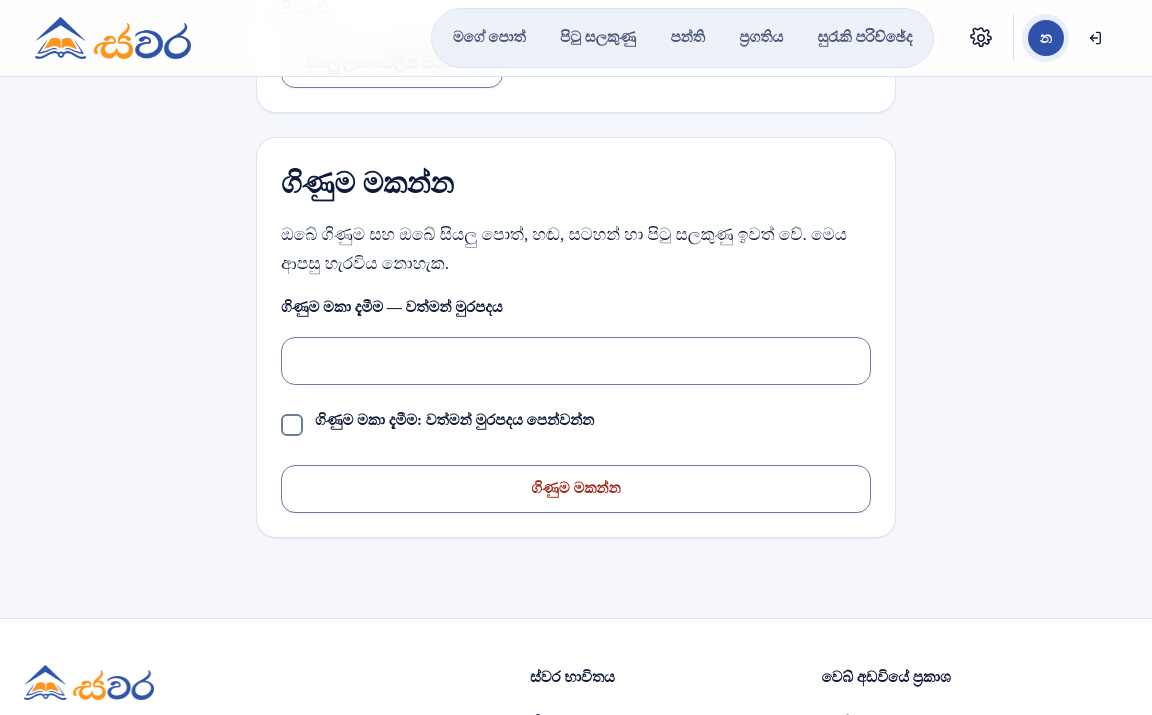
Scenario: deleting the account › with the wrong password deletes nothing and says why
(page scrolled)
In the password field labelled "ගිණුම මකා දැමීම — වත්මන් මුරපදය": (576, 361) [281, 337, 871, 385], type "not-it-at-all"
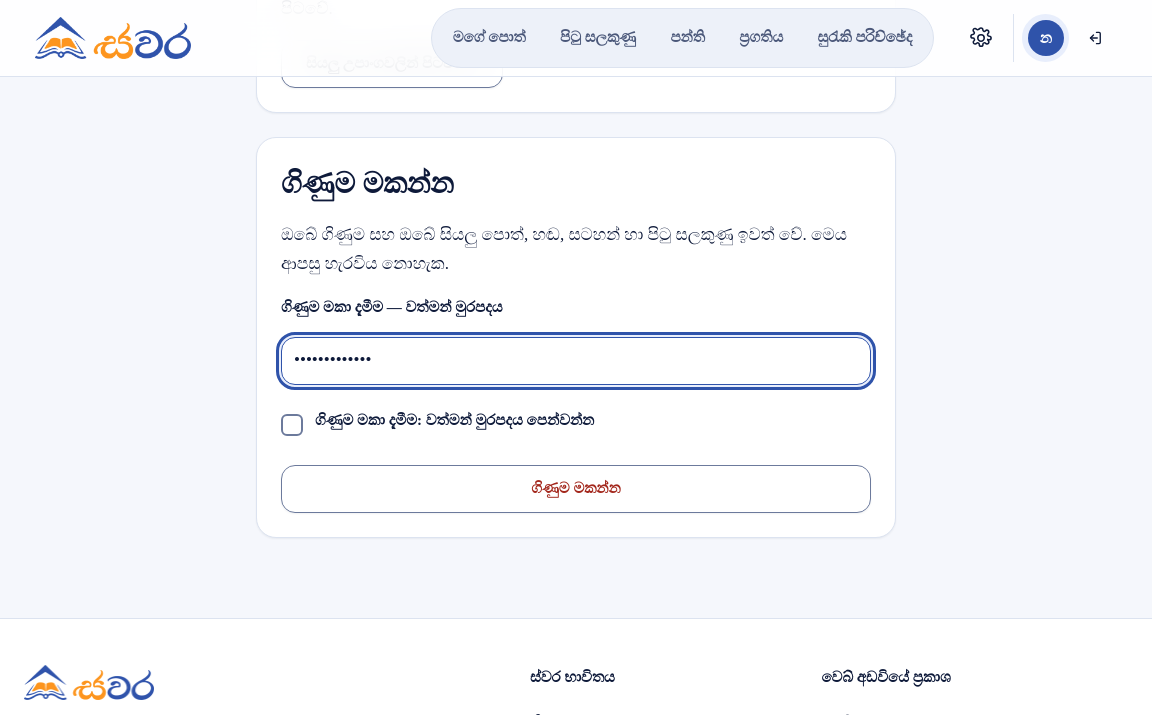
Click the button "ගිණුම මකන්න": (576, 489) [281, 465, 871, 513]
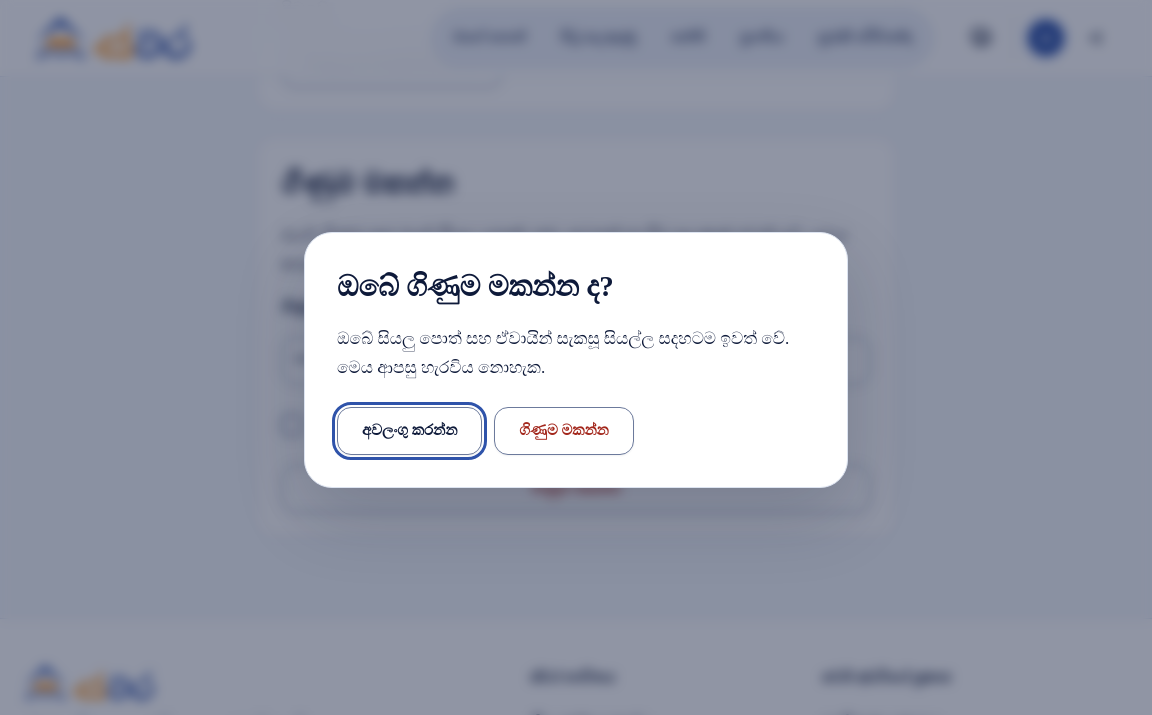
Click the button "ගිණුම මකන්න": (564, 431) [494, 407, 634, 455]
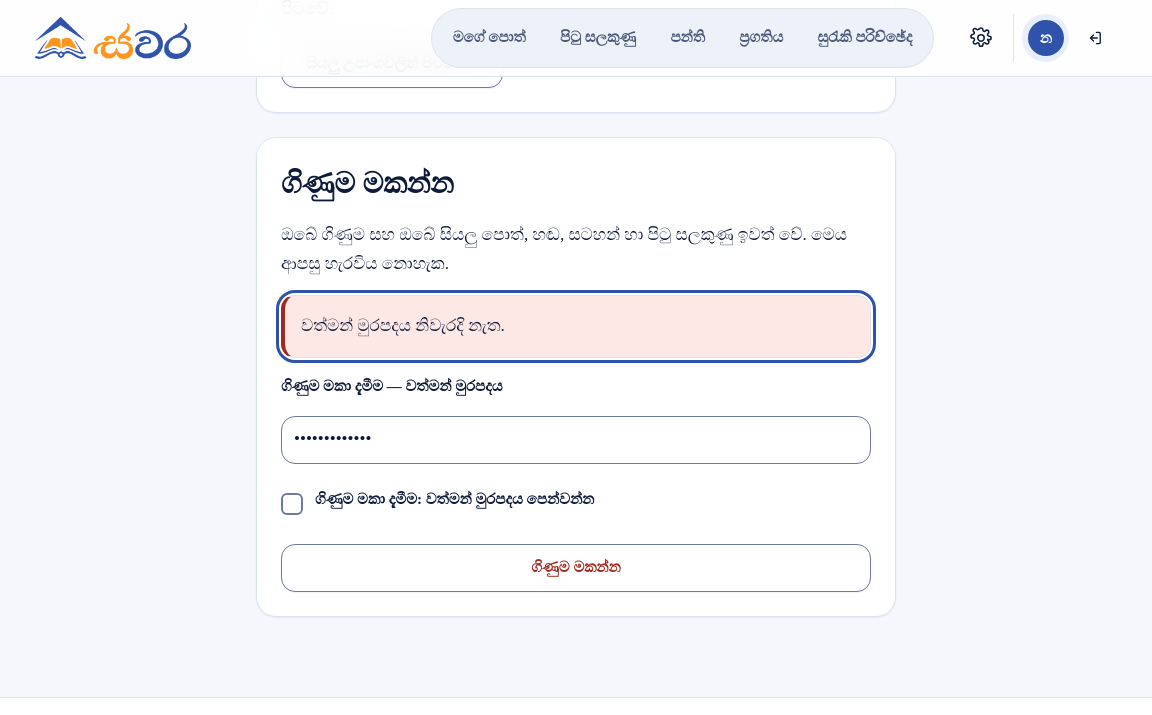
Expected: the text "වත්මන් මුරපදය නිවැරදි නැත." is shown, [281, 295, 871, 358]
